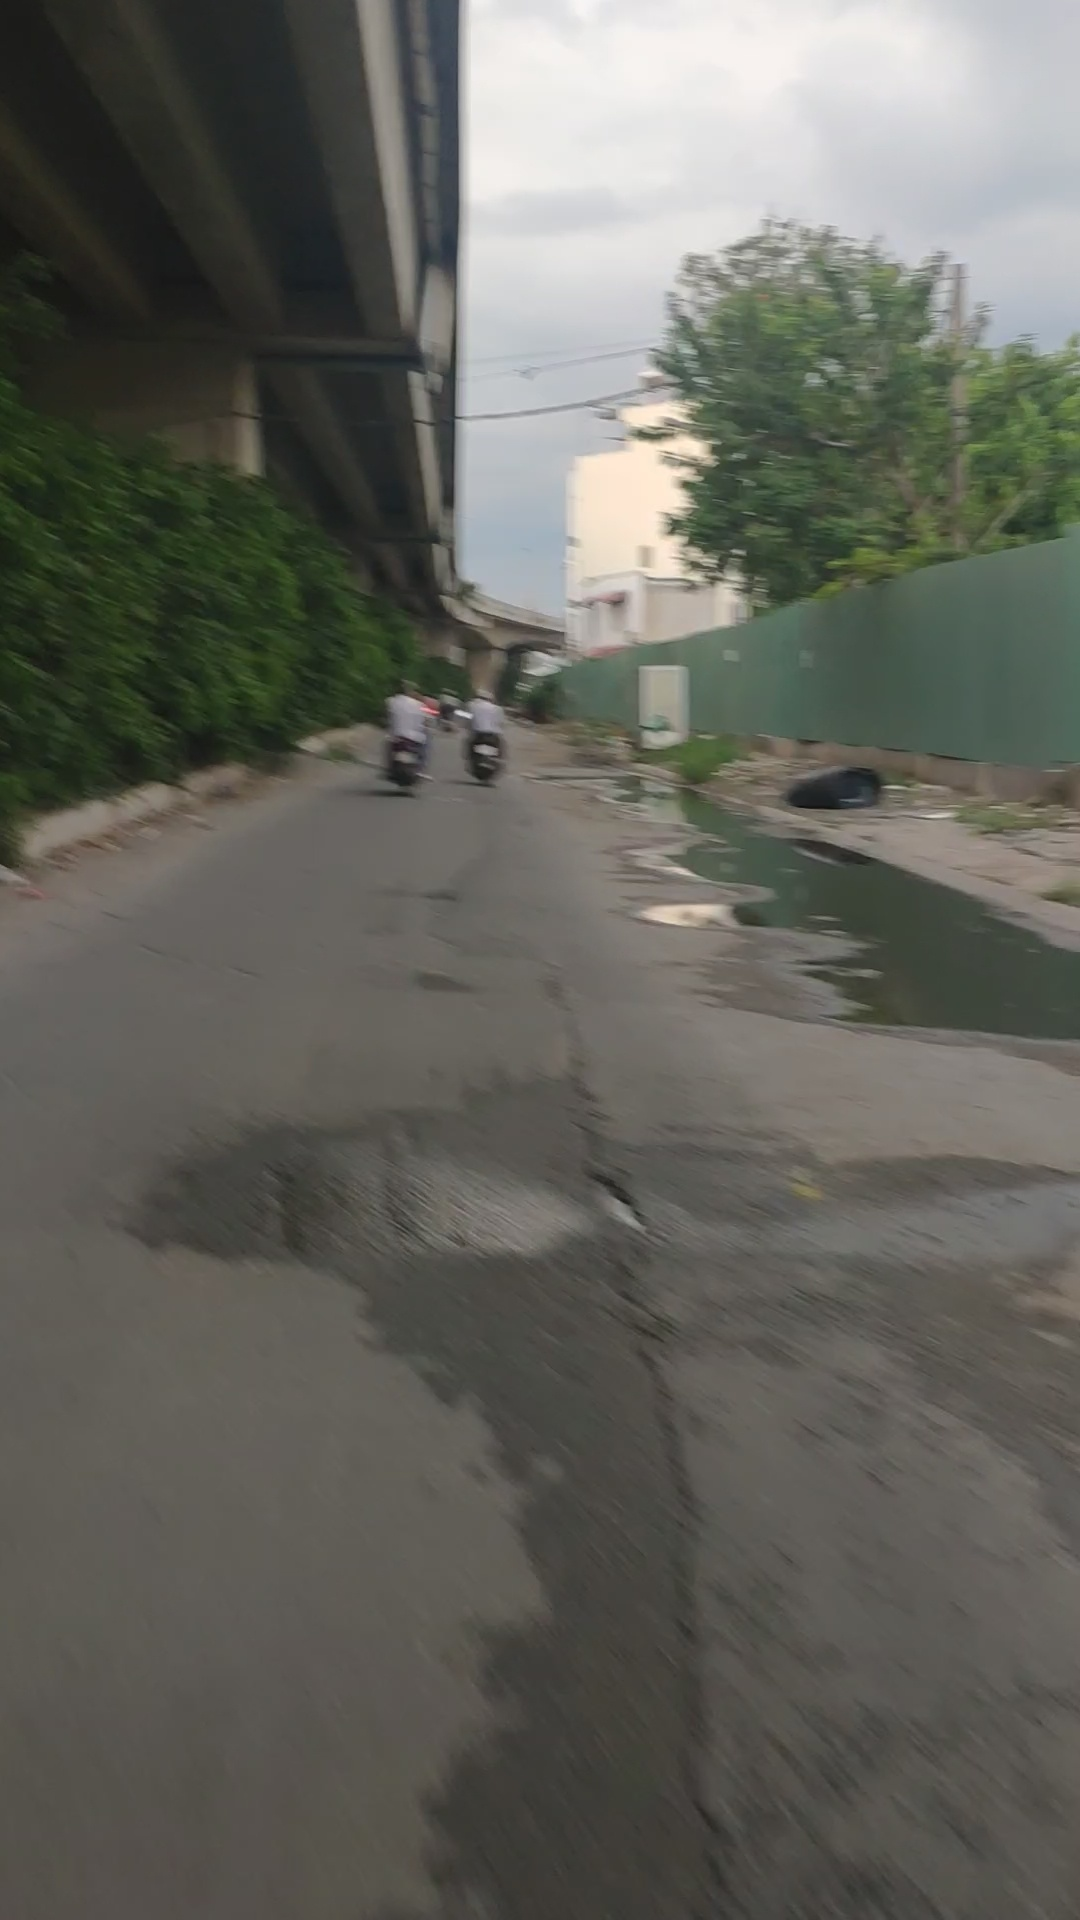hole: (574, 1156, 673, 1236)
